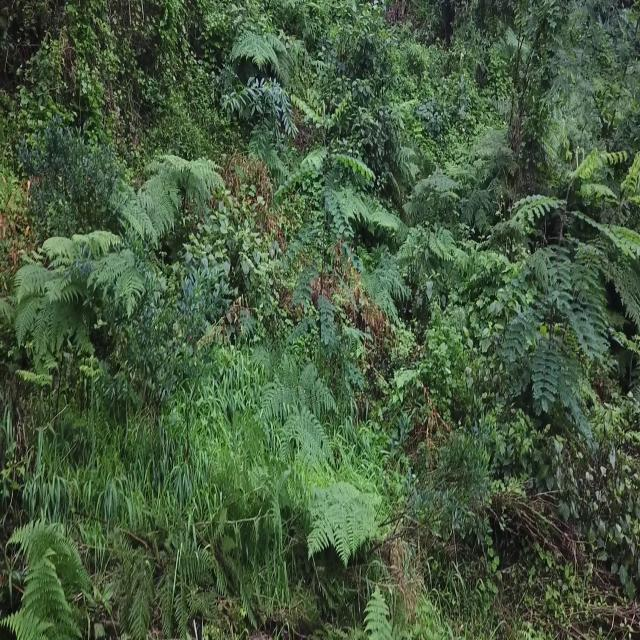Mysore-Thorn-Weed: (272, 77, 380, 384), (492, 232, 606, 431)
